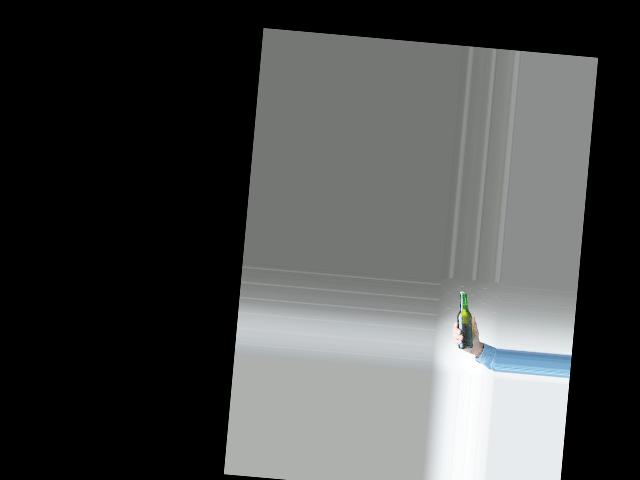beer: (454, 290, 478, 349)
